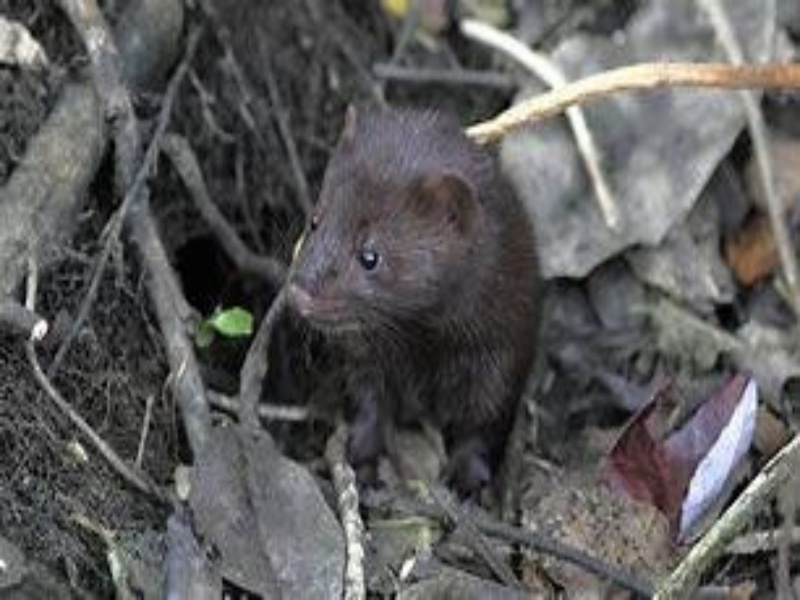minkish: (286, 104, 542, 494)
